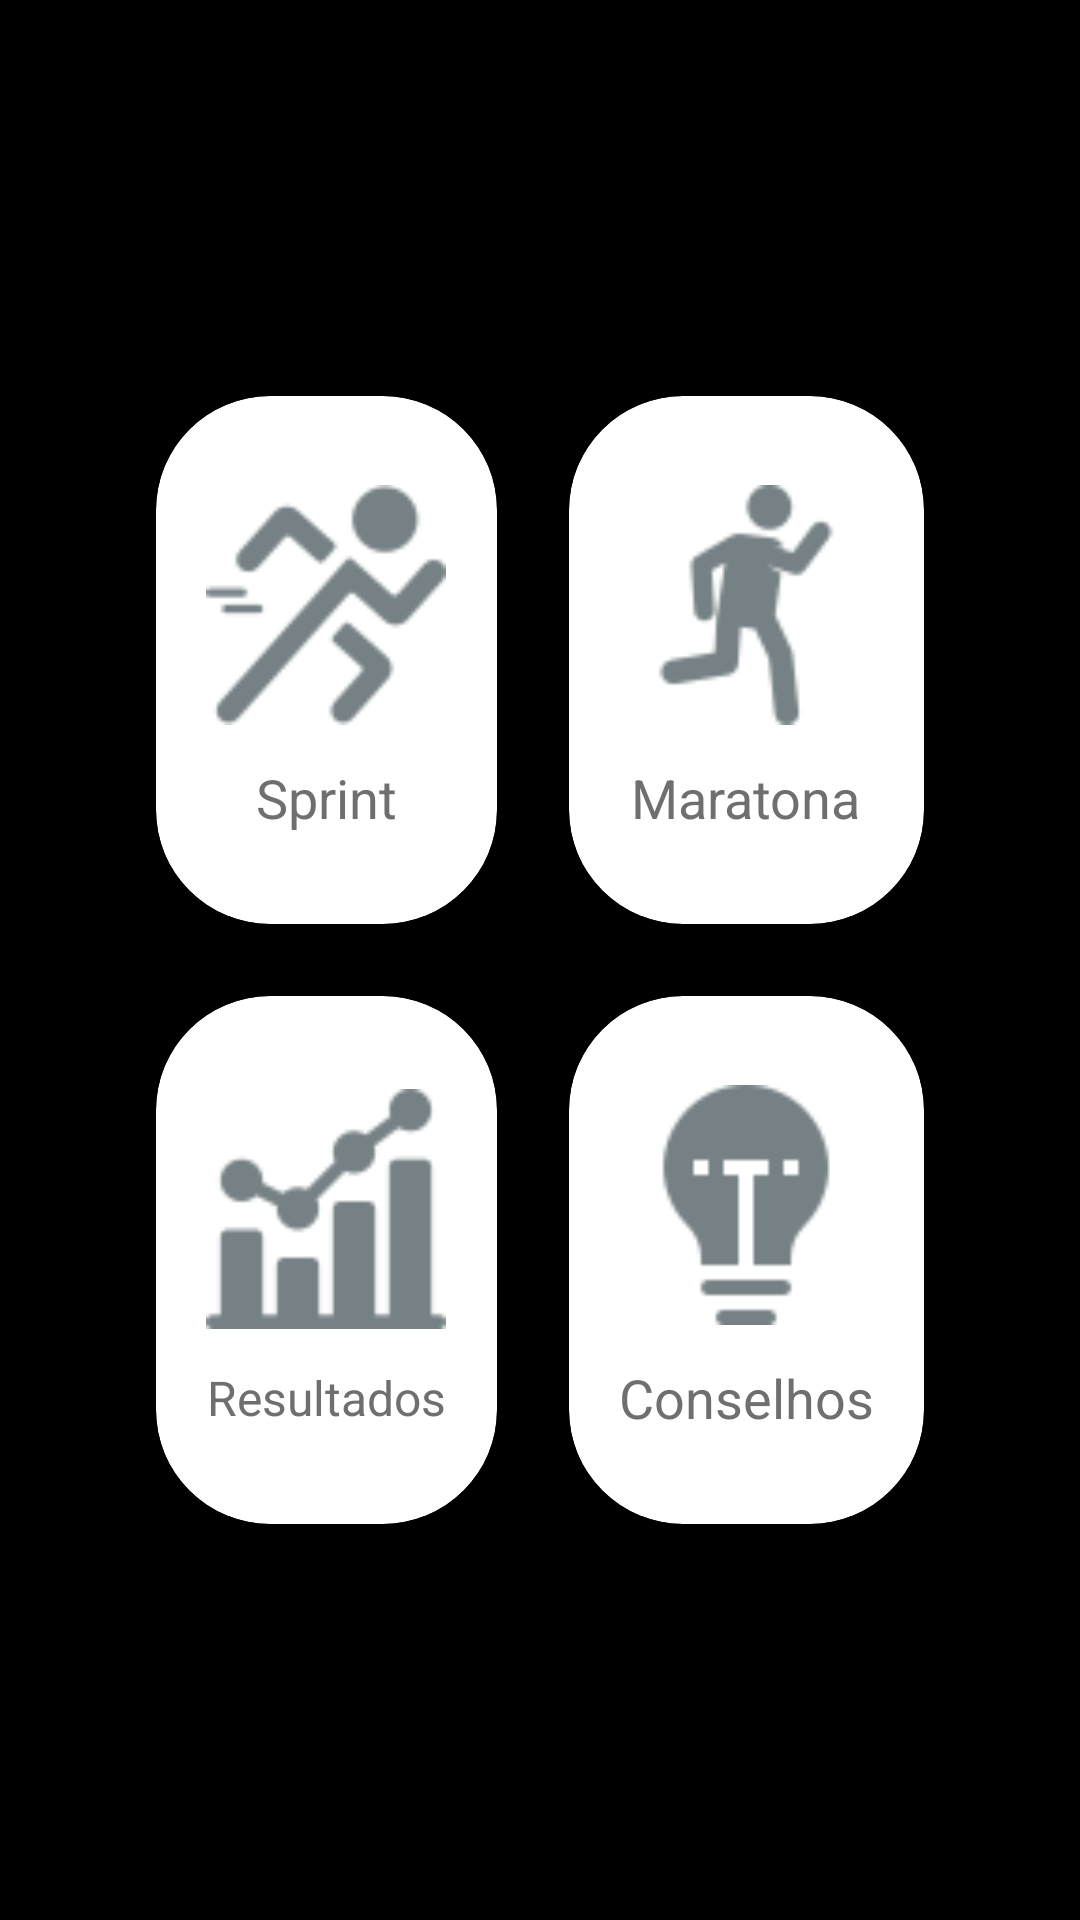

Screen size 1080x1920. Icon name, then its center in pixels as (x,y):
human: (746,605)
lightbulb: (746,1205)
speed: (326,605)
